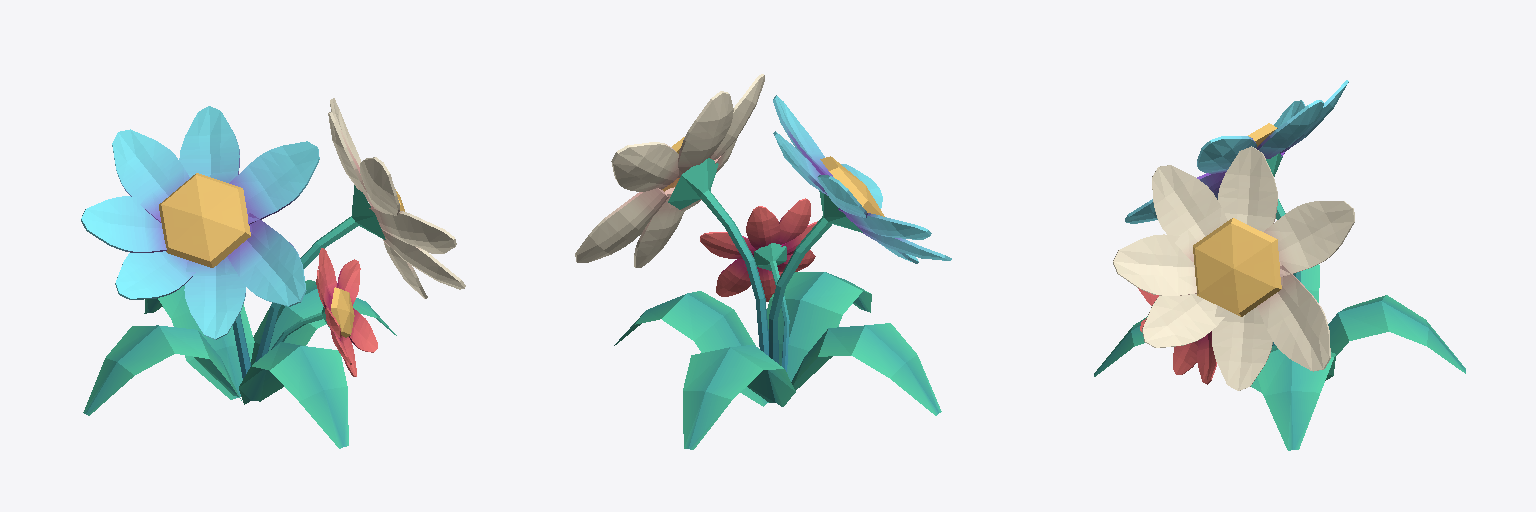
The picture shows the model from 3 angles: view 1: azimuth 30°, elevation 25°; view 2: azimuth 150°, elevation 25°; view 3: azimuth 270°, elevation 25°; orthographic projection.
Parts seen in each view (by area): view 1: Object_44_Material.002; view 2: Object_44_Material.002; view 3: Object_44_Material.002.
Boxes of the visible parts, <box> form: Object_44_Material.002: <box>81,98,465,448</box>; Object_44_Material.002: <box>575,74,951,449</box>; Object_44_Material.002: <box>1094,80,1465,450</box>.
Size of the model in its own units: 6.83 by 5.47 by 6.46.
1 materials, 1 textured.